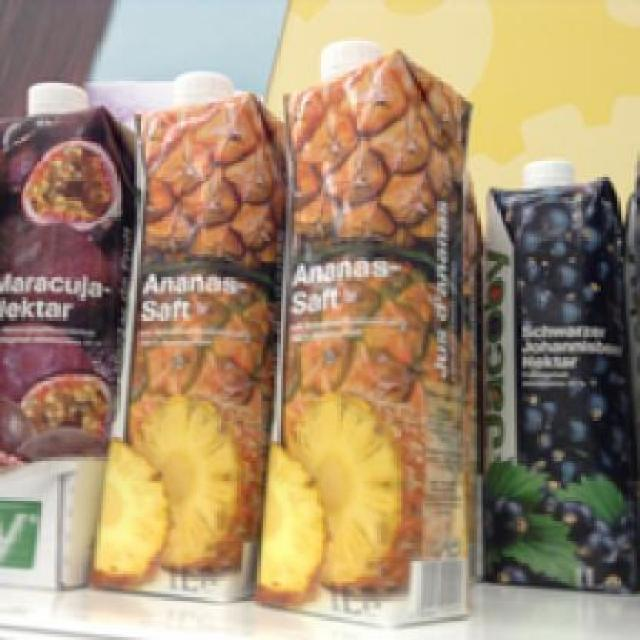Juice: (252, 43, 474, 626), (82, 71, 278, 612), (474, 156, 637, 590), (0, 80, 132, 509)
